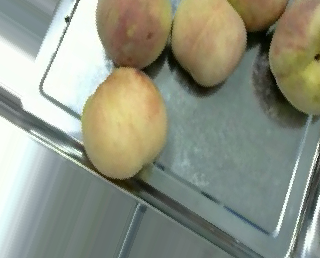Peach: (82, 68, 166, 179), (168, 1, 249, 86), (265, 3, 320, 116), (92, 0, 170, 70)
